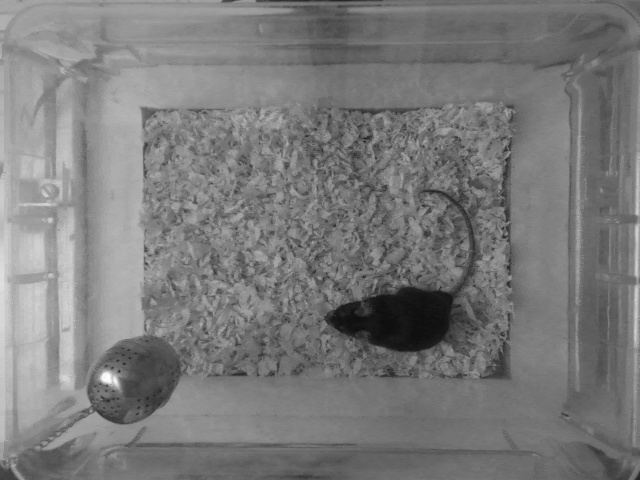mice: (326, 188, 480, 353)
